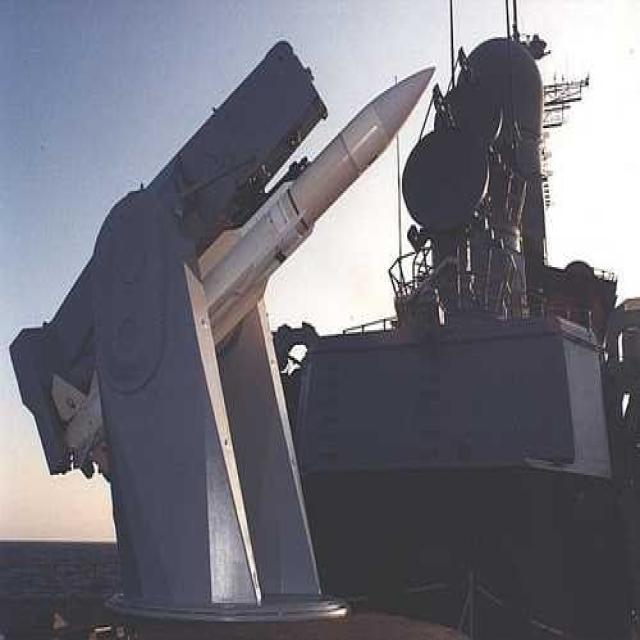missile: (47, 59, 450, 490)
